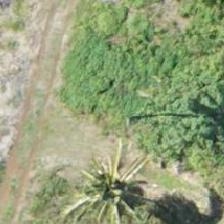coconut_tree: (62, 136, 152, 223)
